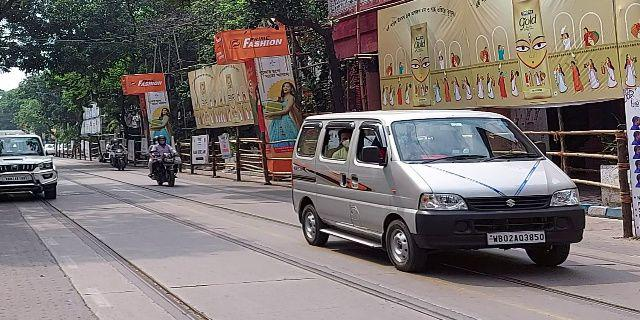Car: (1, 125, 61, 206)
Motorbike: (144, 133, 181, 189), (104, 135, 129, 173)
Van: (288, 108, 589, 275)
